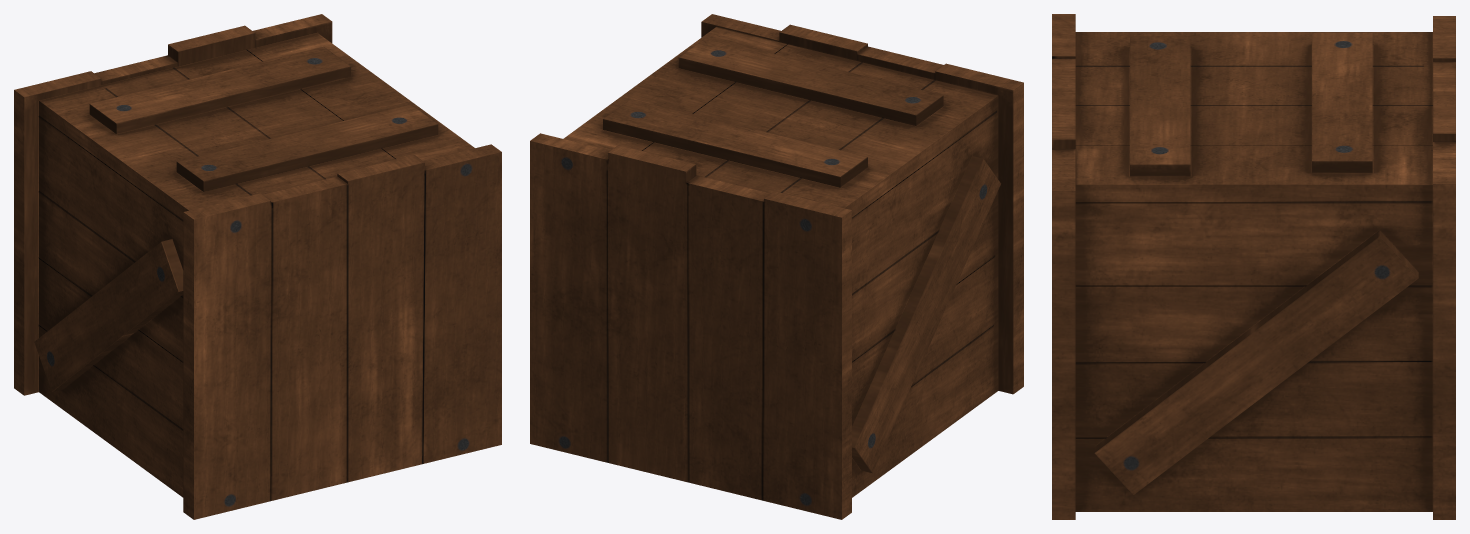
Rendered from Crate.fbx.
3 renders of one model, left to right at view 1: azimuth 30°, elevation 25°; view 2: azimuth 150°, elevation 25°; view 3: azimuth 270°, elevation 25°, orthographic. The views are drawn at different scales.
Visible parts, largest first — view 1: Crate; view 2: Crate; view 3: Crate.
Boxes of the visible parts, <box> form: Crate: <box>14,14,501,519</box>; Crate: <box>530,14,1023,519</box>; Crate: <box>1052,14,1455,519</box>.
Size of the model in its own units: 29.51 by 28.06 by 29.85.
